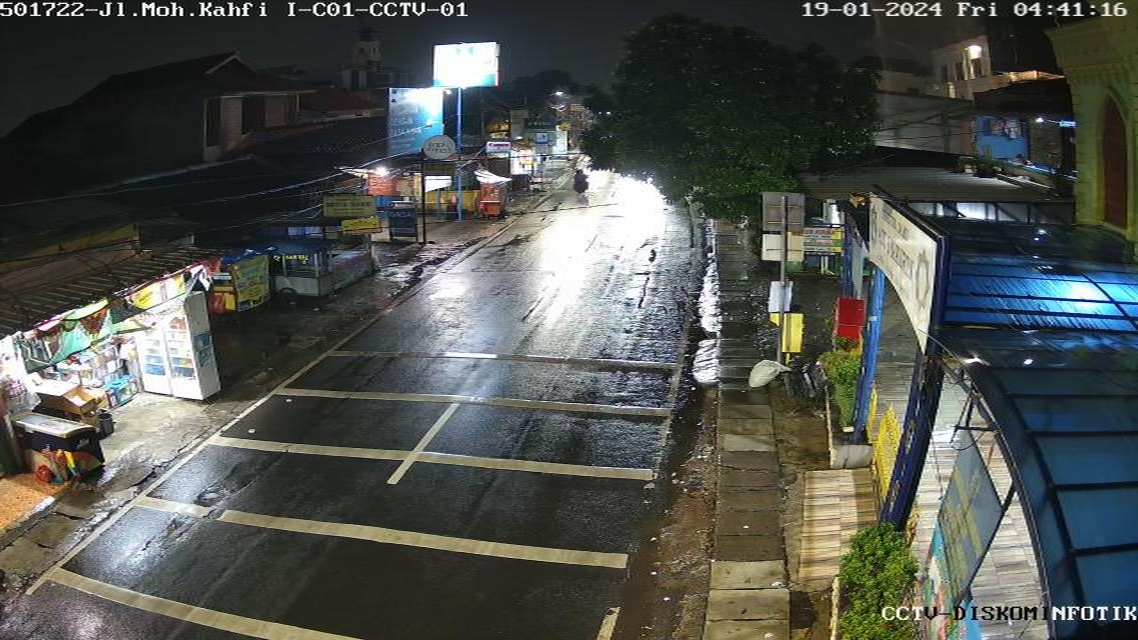Gerobak: (4, 407, 108, 489), (270, 231, 359, 316), (217, 248, 277, 314), (468, 169, 526, 235)
